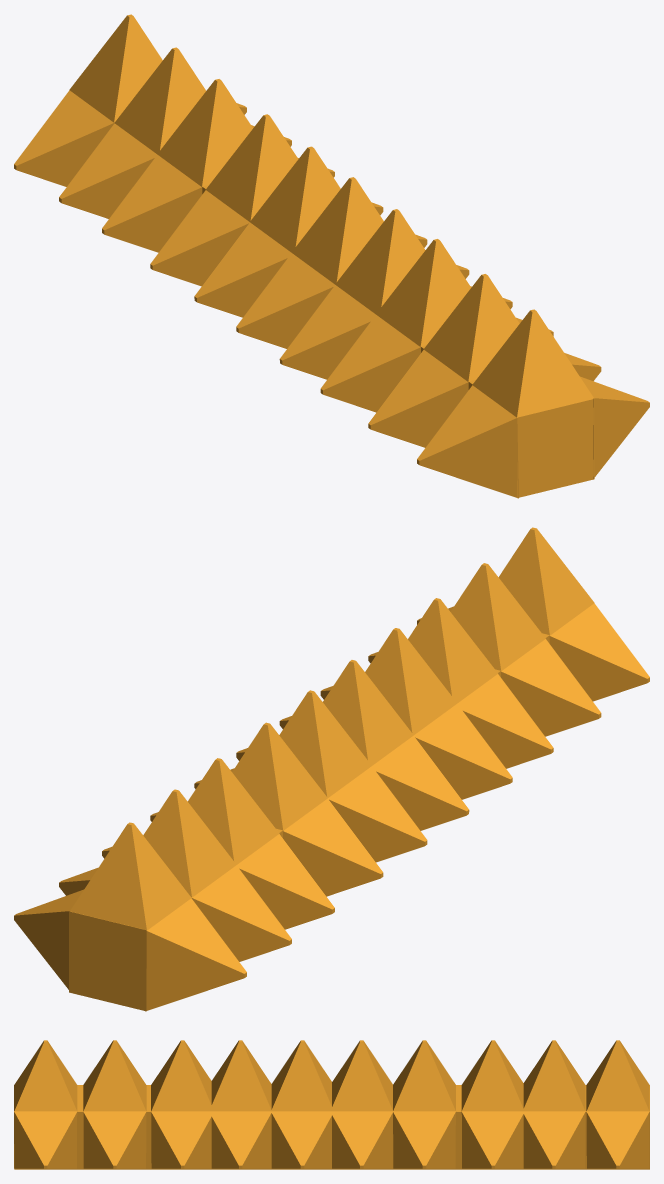
Rendered from obstaculos2.fbx.
The picture shows the model from 3 angles, top to bottom: view 1: azimuth 30°, elevation 25°; view 2: azimuth 150°, elevation 25°; view 3: azimuth 270°, elevation 25°; orthographic projection. The views are drawn at different scales.
Visible parts, largest first — view 1: Cube.009; view 2: Cube.009; view 3: Cube.009.
Boxes of the visible parts, box(x1,y1,x2,y2) form: Cube.009: box(14, 14, 649, 498); Cube.009: box(14, 527, 649, 1011); Cube.009: box(14, 1040, 649, 1169).
Bounding box in the file's own units: 297 × 200 × 1000.
1 material, 1 textured.
